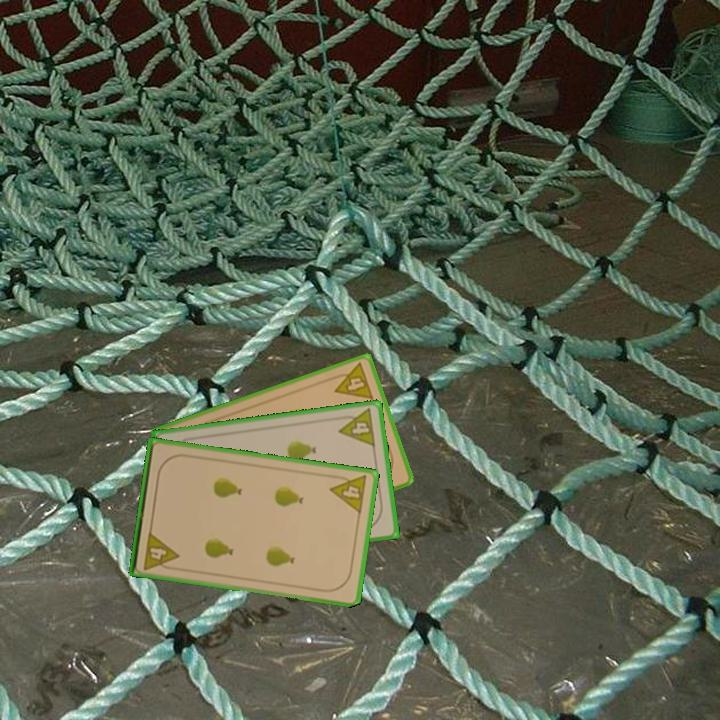4p: (327, 359, 376, 402), (334, 405, 378, 450), (327, 471, 369, 517), (140, 528, 181, 573)
